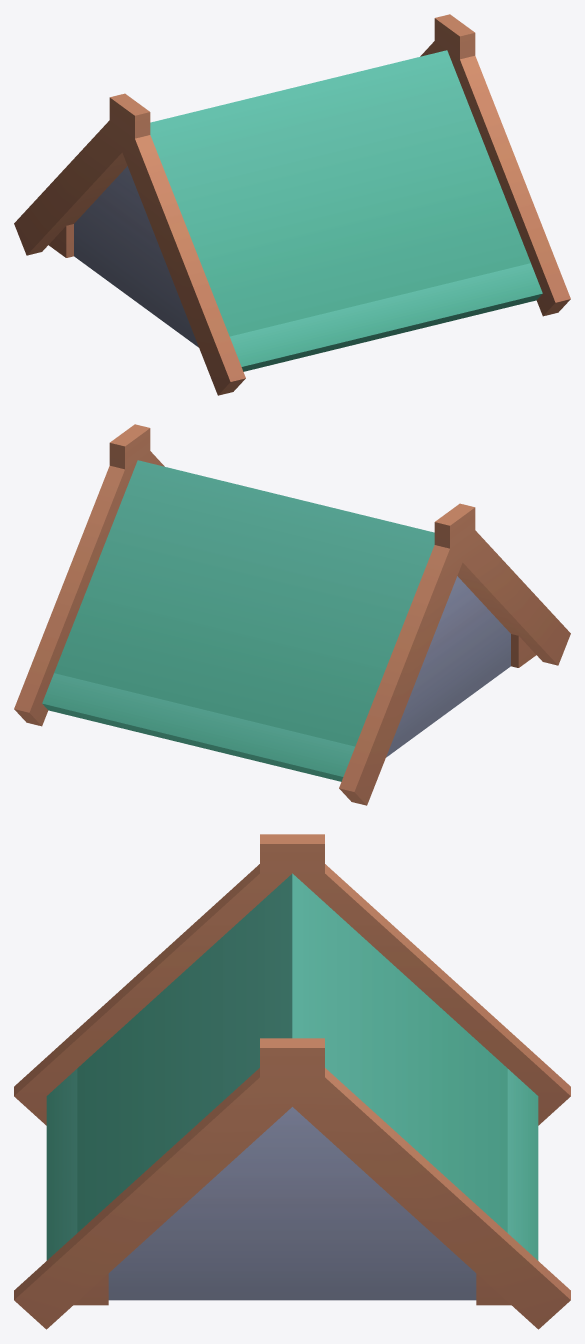
File: kenney-fantasy-town-roof-gable-detail.glb
3 renders of one model, top to bottom at view 1: azimuth 30°, elevation 25°; view 2: azimuth 150°, elevation 25°; view 3: azimuth 270°, elevation 25°, orthographic. The views are drawn at different scales.
Visible parts, largest first — view 1: roof-gable-detail; view 2: roof-gable-detail; view 3: roof-gable-detail.
Boxes of the visible parts, bbox=[...] form: roof-gable-detail: bbox=[14, 14, 570, 395]; roof-gable-detail: bbox=[14, 424, 570, 805]; roof-gable-detail: bbox=[14, 834, 570, 1329].
Bounding box in the file's own units: 1.1 × 0.6767 × 1.21.
Materials: 1 (1 with a texture image).
